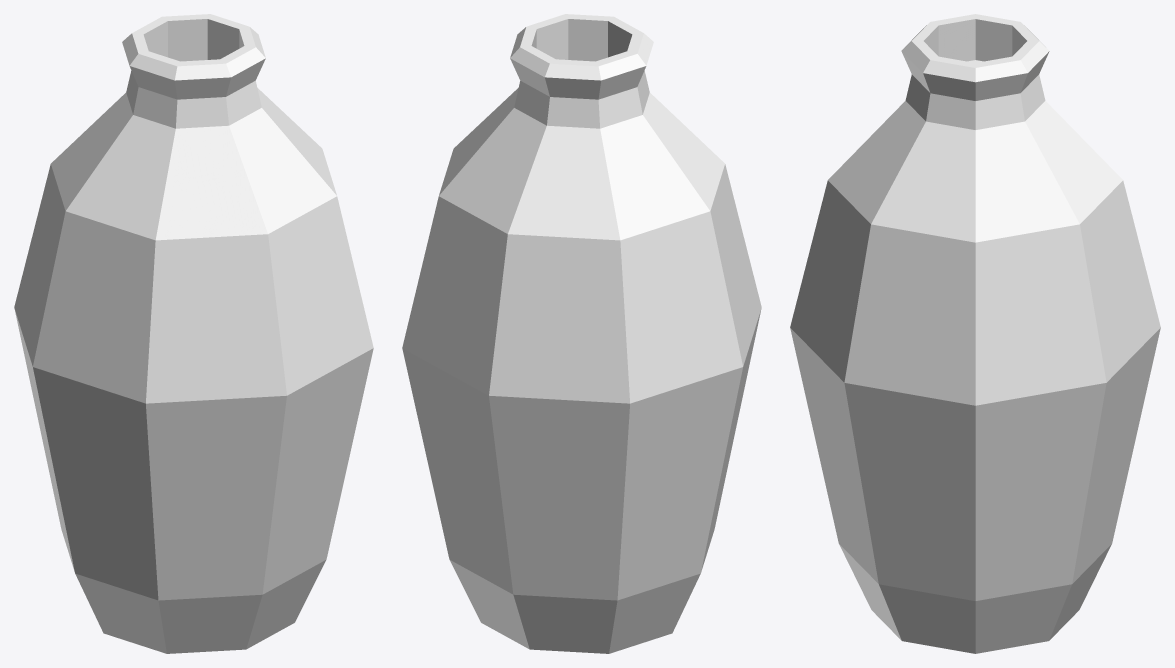
Rendered from PotteryJar_02.fbx.
3 renders of one model, left to right at view 1: azimuth 30°, elevation 25°; view 2: azimuth 150°, elevation 25°; view 3: azimuth 270°, elevation 25°, orthographic.
Visible parts, largest first — view 1: PotteryJar_02; view 2: PotteryJar_02; view 3: PotteryJar_02.
Part boxes in pixels (box(x1,y1,x2,y2)): PotteryJar_02: box(14, 14, 373, 653); PotteryJar_02: box(402, 14, 761, 653); PotteryJar_02: box(790, 14, 1160, 653).
Bounding box in the file's own units: 93.08 × 158 × 93.08.
